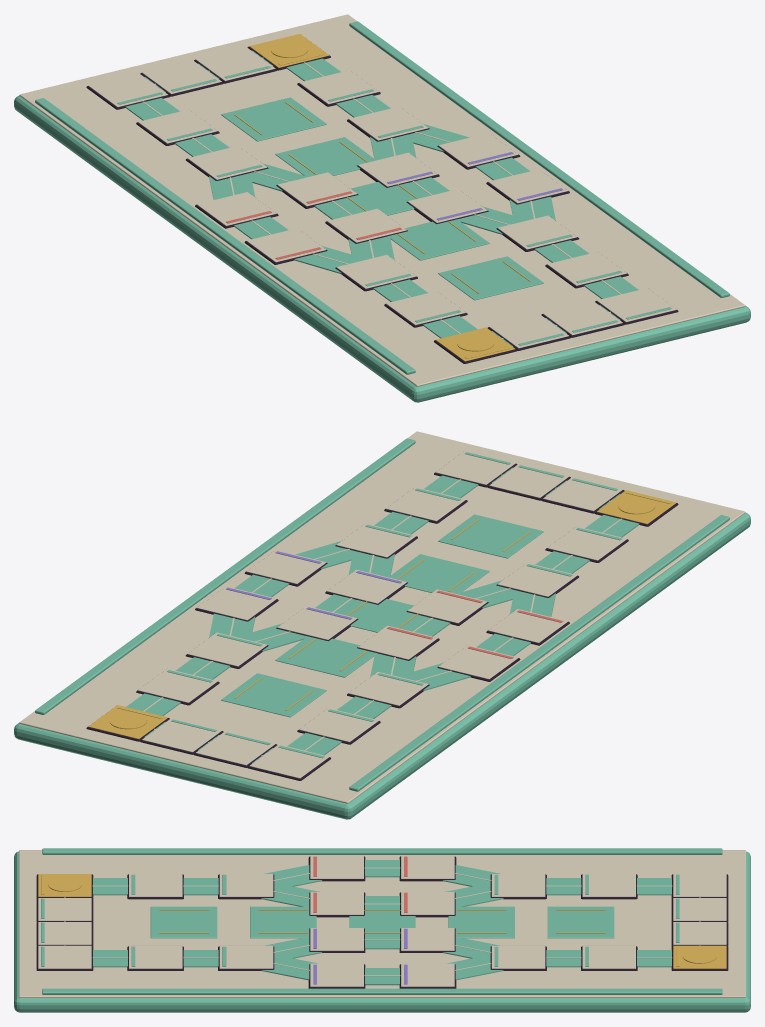
File: cho_via_he.glb
The picture shows the model from 3 angles, top to bottom: view 1: azimuth 30°, elevation 25°; view 2: azimuth 150°, elevation 25°; view 3: azimuth 270°, elevation 25°; orthographic projection. The views are drawn at different scales.
Visible parts, largest first — view 1: City_pavement, Road_network, City_base, Garden_strip, Garden_strip.001, Plaza_0, Plaza_4, Plaza_3, Plaza_1, Plaza_2, Tile_face_C05, Tile_face_C01 (+22 smaller); view 2: City_pavement, Road_network, City_base, Garden_strip, Garden_strip.001, Plaza_4, Plaza_0, Plaza_1, Plaza_3, Plaza_2, Tile_face_C01, Tile_face_C04 (+22 smaller); view 3: City_pavement, Road_network, City_base, Garden_strip, Garden_strip.001, Plaza_0, Plaza_4, Plaza_1, Plaza_3, Plaza_2, Tile_face_C10, Tile_face_C11 (+24 smaller).
Part boxes in pixels (box(x1,y1,x2,y2)): City_pavement: box(19, 14, 745, 386); Road_network: box(125, 50, 638, 346); City_base: box(14, 95, 750, 402); Garden_strip: box(35, 98, 415, 374); Garden_strip.001: box(349, 21, 729, 297); Plaza_0: box(221, 97, 326, 141); Plaza_4: box(438, 256, 543, 300); Plaza_3: box(388, 219, 489, 260); Plaza_1: box(275, 137, 376, 177); Plaza_2: box(338, 182, 425, 215); Tile_face_C05: box(88, 73, 167, 107); Tile_face_C01: box(386, 291, 465, 325); City_pavement: box(19, 431, 745, 803); Road_network: box(126, 467, 639, 763); City_base: box(14, 512, 750, 819); Garden_strip: box(349, 515, 729, 791); Garden_strip.001: box(35, 438, 415, 714); Plaza_4: box(438, 514, 543, 558); Plaza_0: box(221, 673, 326, 717); Plaza_1: box(275, 636, 376, 677); Plaza_3: box(388, 554, 489, 594); Plaza_2: box(339, 599, 426, 632); Tile_face_C01: box(547, 526, 626, 560); Tile_face_C04: box(299, 708, 378, 742); City_pavement: box(19, 850, 745, 997); Road_network: box(93, 860, 671, 985); City_base: box(14, 851, 750, 1012); Garden_strip: box(42, 848, 722, 854); Garden_strip.001: box(42, 988, 722, 994); Plaza_0: box(547, 906, 614, 938); Plaza_4: box(150, 906, 217, 938); Plaza_1: box(448, 906, 514, 938); Plaza_3: box(250, 906, 316, 938); Plaza_2: box(349, 906, 415, 937); Tile_face_C10: box(491, 945, 545, 968); Tile_face_C11: box(219, 945, 273, 968).
Size of the model in its own units: 12.6 by 0.738 by 26.
